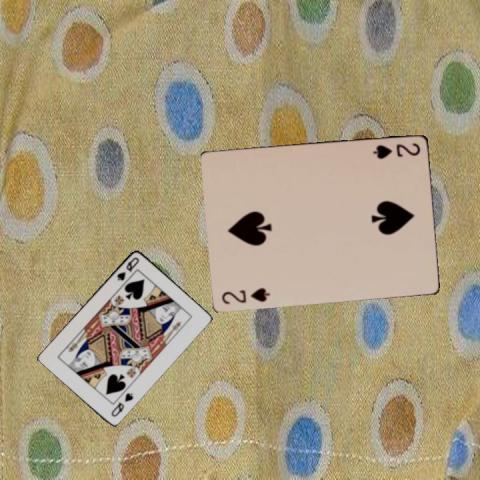2s: (218, 284, 270, 305), (370, 140, 422, 160)
Qs: (113, 254, 141, 282), (108, 389, 135, 418)
